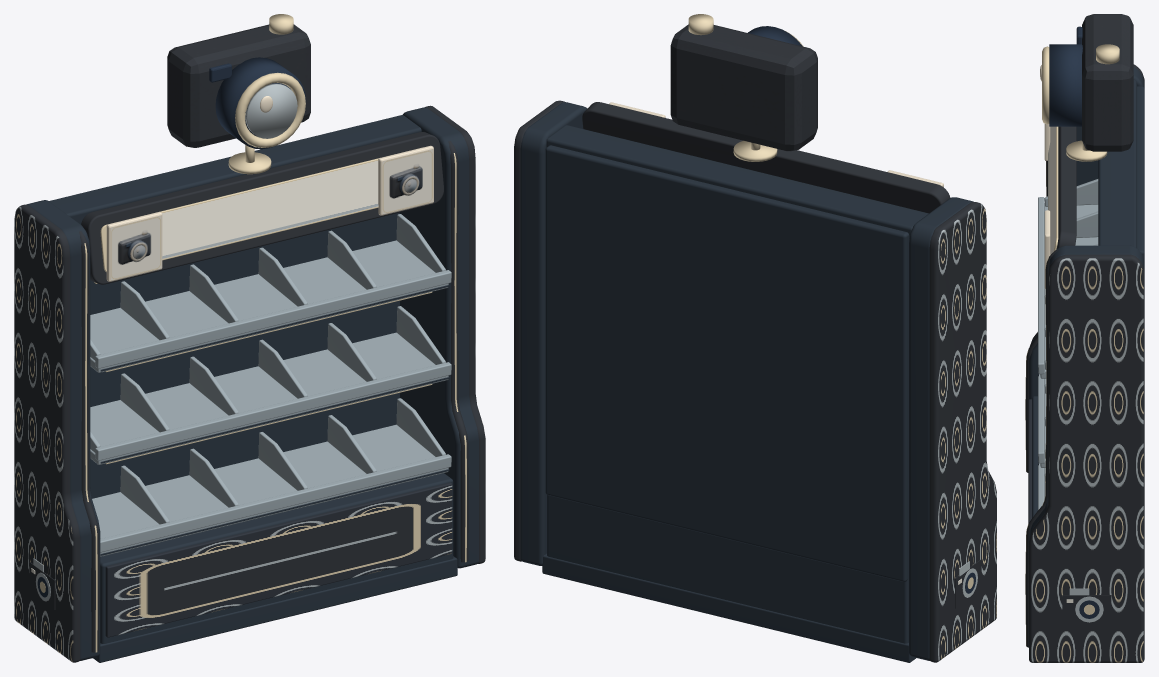
File: TH_PHOTOGRAPHY.fbx
3 renders of one model, left to right at view 1: azimuth 30°, elevation 25°; view 2: azimuth 150°, elevation 25°; view 3: azimuth 270°, elevation 25°, orthographic. The views are drawn at different scales.
Visible parts, largest first — view 1: BaseFrontInset, Left_PaintedPanel, BackPanel.001, Right_StructuralWall, Tray_02, Tray_01, Tray_03, HeaderFace, HeaderBorder, Camera body, TopCrossRail, Left_StructuralWall (+36 smaller); view 2: BackPanel.001, Left_PaintedPanel, ClosedSolidBase, Camera body, Right_StructuralWall, HeaderBorder, Left_StructuralWall, TopCrossRail, LowerPlinth, Right_PaintedPanel; view 3: Right_PaintedPanel, Camera body, TopCrossRail, Camera lens, HeaderBorder, BackPanel.001, RightHousing, HeaderFace, FrontLip_01, Left_StructuralWall, Right_StructuralWall, Relief.009 (+16 smaller).
Part boxes in pixels (x1,y1,x2,y2): BaseFrontInset: [105, 482, 452, 637]; Left_PaintedPanel: [14, 204, 80, 662]; BackPanel.001: [90, 212, 399, 498]; Right_StructuralWall: [400, 107, 478, 568]; Tray_02: [90, 332, 448, 464]; Tray_01: [90, 240, 448, 372]; Tray_03: [92, 424, 448, 556]; HeaderFace: [100, 147, 421, 272]; HeaderBorder: [81, 132, 443, 284]; Camera body: [167, 24, 310, 147]; TopCrossRail: [49, 115, 421, 224]; Left_StructuralWall: [26, 200, 100, 660]; BackPanel.001: [545, 145, 909, 581]; Left_PaintedPanel: [929, 202, 996, 662]; ClosedSolidBase: [547, 495, 908, 643]; Camera body: [670, 24, 817, 151]; Right_StructuralWall: [520, 102, 587, 565]; HeaderBorder: [582, 102, 950, 213]; Left_StructuralWall: [909, 197, 973, 660]; TopCrossRail: [546, 125, 928, 238]; LowerPlinth: [542, 553, 915, 662]; Right_PaintedPanel: [514, 100, 565, 561]; Right_PaintedPanel: [1029, 254, 1144, 662]; Camera body: [1082, 14, 1133, 151]; TopCrossRail: [1098, 80, 1136, 247]; Camera lens: [1049, 44, 1082, 126]; HeaderBorder: [1056, 126, 1076, 248]; BackPanel.001: [1137, 86, 1144, 260]; RightHousing: [1025, 249, 1057, 647]; HeaderFace: [1048, 126, 1058, 254]; FrontLip_01: [1038, 197, 1044, 374]; Left_StructuralWall: [1029, 67, 1144, 399]; Right_StructuralWall: [1029, 245, 1144, 538]; Relief.009: [1062, 595, 1111, 623].
Bounding box in the file's own units: 3.63 × 4.66 × 0.9273.
